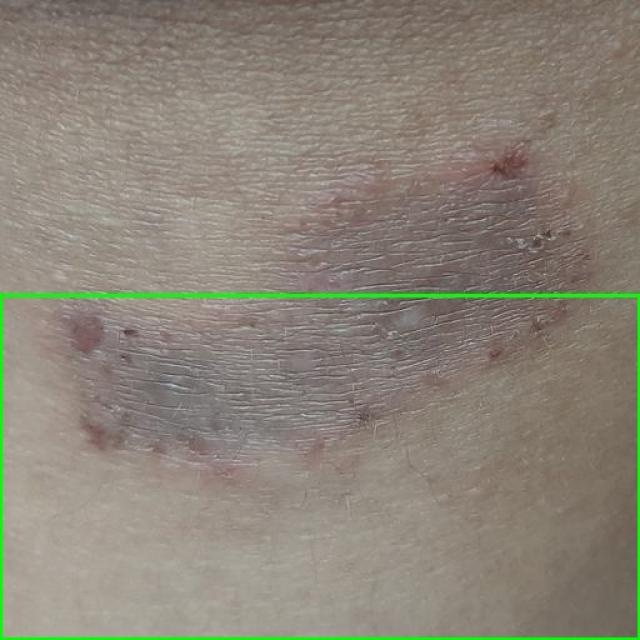Tinea Corporis: (0, 295, 639, 639)
